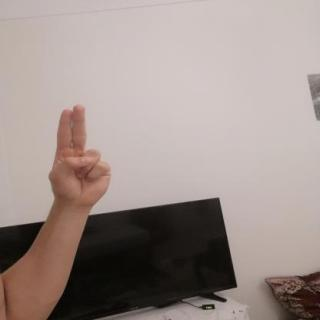TA: (39, 99, 120, 213)
